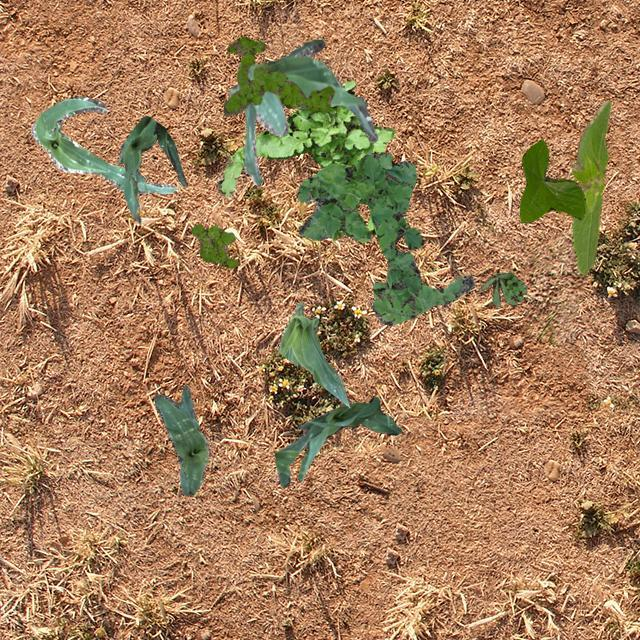crop: (226, 39, 376, 184), (29, 96, 180, 192), (274, 396, 401, 486), (278, 300, 348, 406), (118, 114, 186, 223), (570, 100, 610, 274), (152, 382, 208, 494), (518, 138, 584, 222)
weed: (296, 150, 474, 324), (215, 80, 408, 238), (222, 36, 334, 116), (190, 222, 237, 266), (480, 272, 526, 306)
